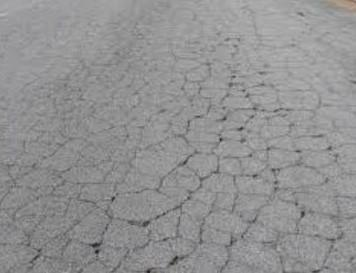pothole: (317, 31, 352, 53)
